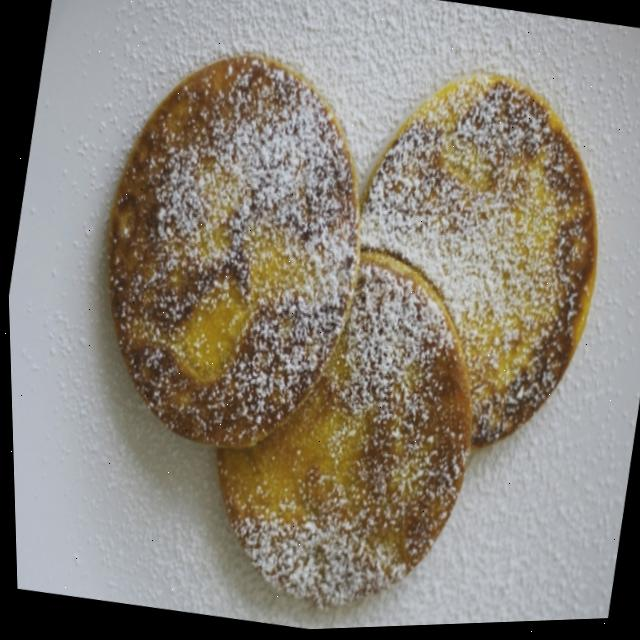炸货点心: (21, 0, 640, 639)
蛋糕甜品: (21, 0, 640, 639)
